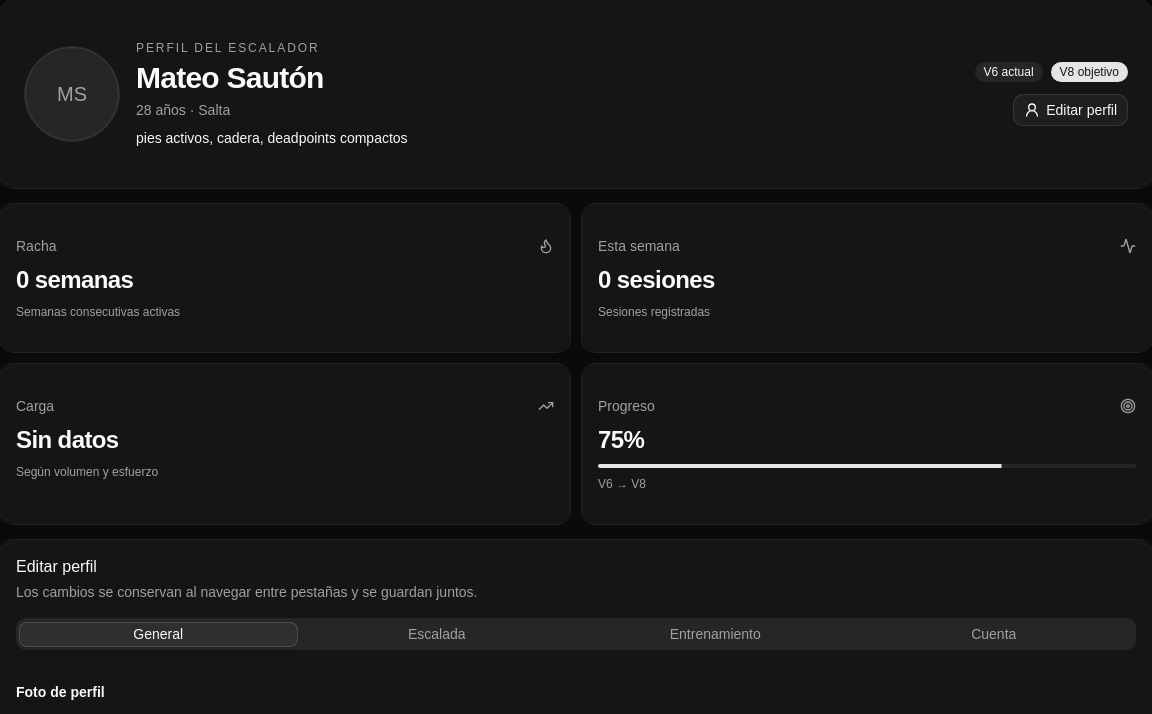
Test: UserProfile › explains read-only Salud and disconnects it from the account tab
The width and height of the screenshot is (1152, 714).
Later steps or results of the test are not shown.
Click the tab "Cuenta": (994, 634) top-left (854, 622), bottom-right (1133, 646)
(page scrolled)
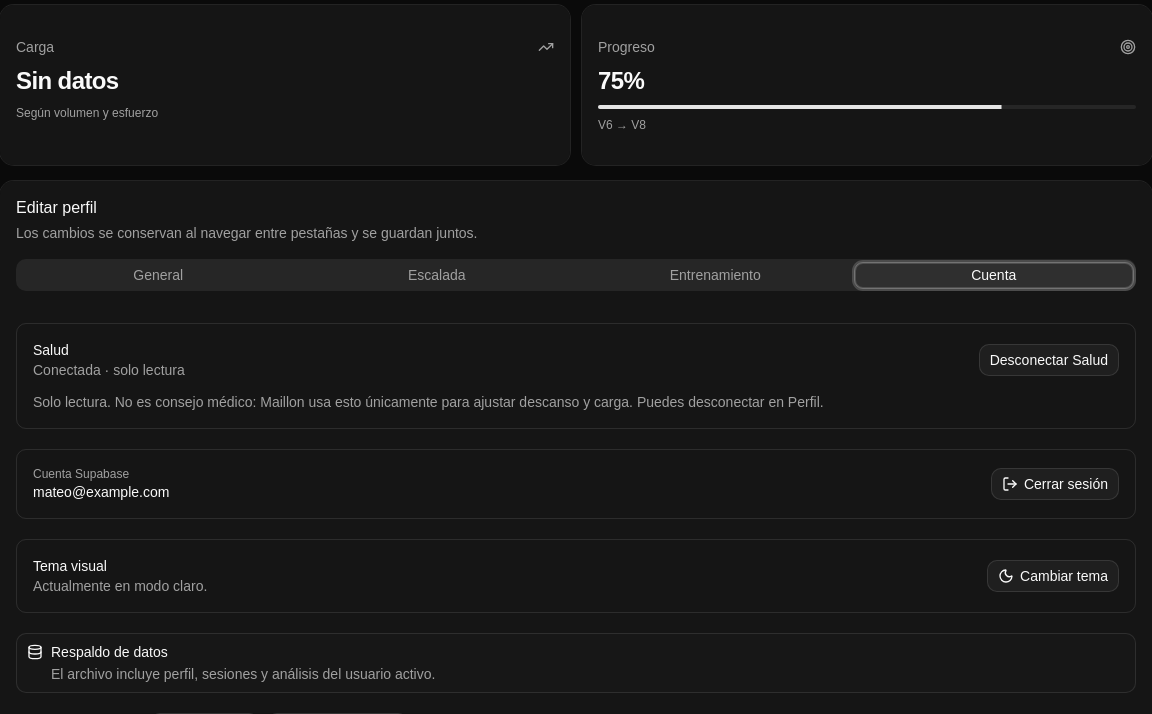
Expected: the text "Solo lectura. No es consejo médico: Maillon usa esto únicamente para ajustar descanso y carga. Puedes desconectar en Per" is shown, top-left (33, 394), bottom-right (824, 410)
